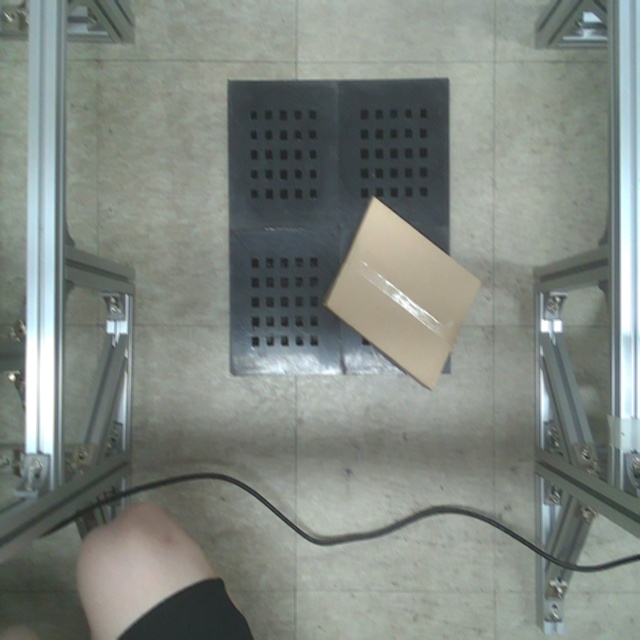box: (328, 192, 485, 395)
pallet: (221, 71, 461, 379)
